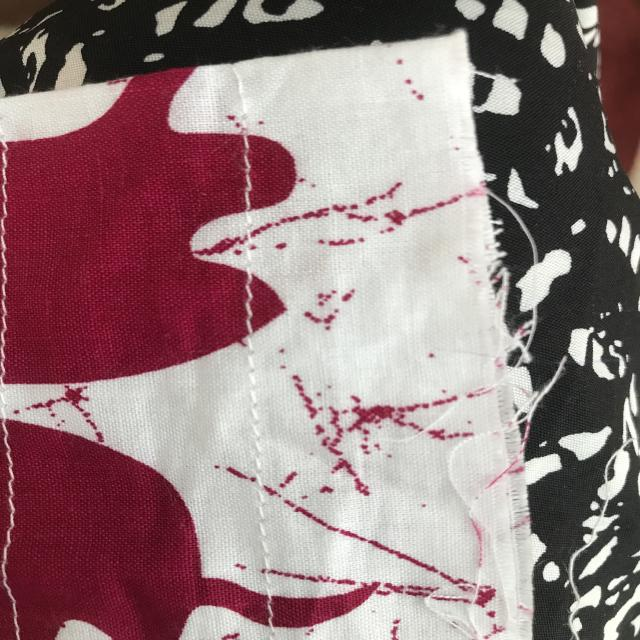good: (224, 370, 280, 472), (244, 497, 280, 571)
